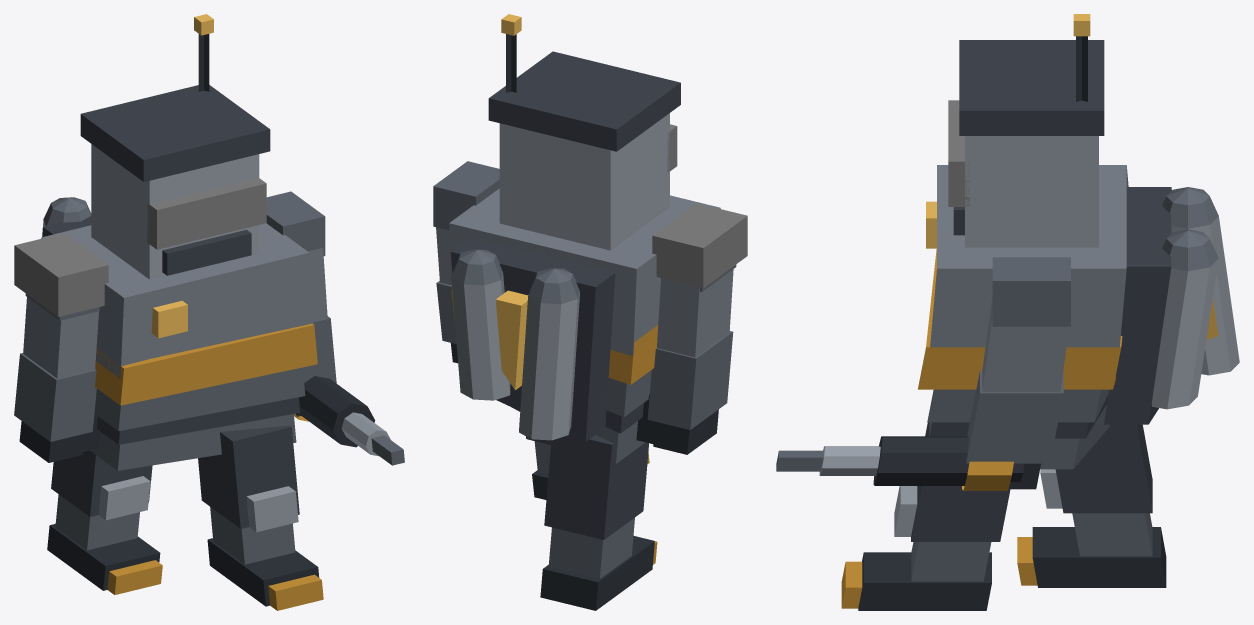
Rendered from engineer-walk-1.obj.
3 views of the same model, side by side, from view 1: azimuth 30°, elevation 25°; view 2: azimuth 150°, elevation 25°; view 3: azimuth 270°, elevation 25° (orthographic). The views are drawn at different scales.
Visible parts, largest first — view 1: engineer-walk-1; view 2: engineer-walk-1; view 3: engineer-walk-1.
Boxes of the visible parts, x1,y1,x2,y2 form: engineer-walk-1: (14, 14, 404, 610); engineer-walk-1: (433, 14, 747, 610); engineer-walk-1: (776, 14, 1239, 610).
Bounding box in the file's own units: 1.31 × 2.4 × 1.66.
